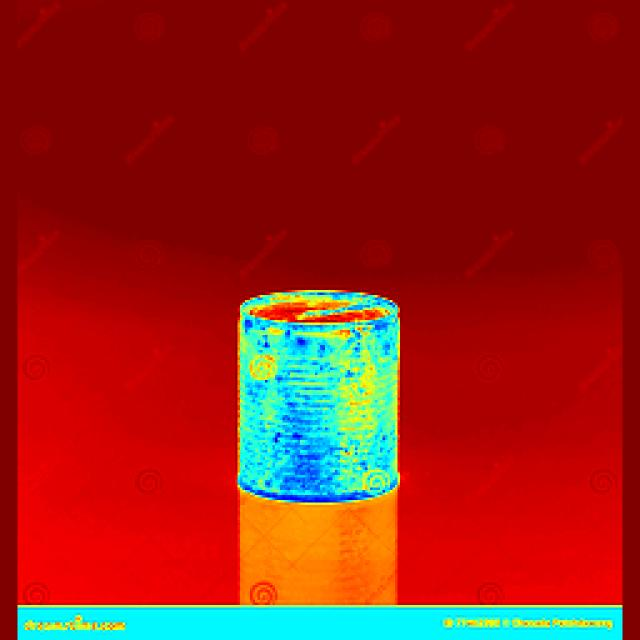Aluminium Food Cans: (229, 268, 419, 528)
